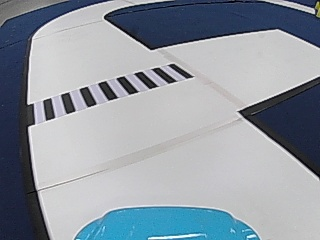CrossWalk: (38, 64, 186, 119)
